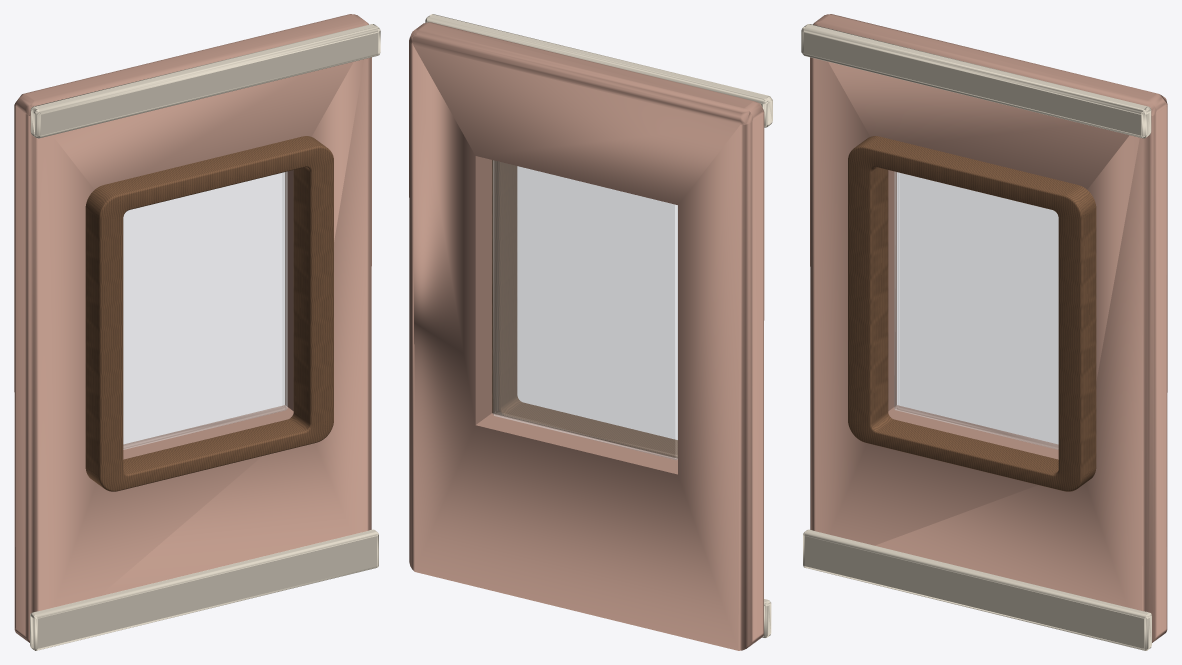
Rendered from Window.glb.
3 renders of one model, left to right at view 1: azimuth 30°, elevation 25°; view 2: azimuth 150°, elevation 25°; view 3: azimuth 330°, elevation 25°, orthographic.
Visible parts, largest first — view 1: PBK_substrate.001, PBK_glass.001, PBK_Continuous_Frame_Brick_Window.003, PBK_base_trim.001, PBK_floor_band.001; view 2: PBK_substrate.001, PBK_glass.001, PBK_Continuous_Frame_Brick_Window.003, PBK_floor_band.001; view 3: PBK_substrate.001, PBK_glass.001, PBK_Continuous_Frame_Brick_Window.003, PBK_base_trim.001, PBK_floor_band.001.
Boxes of the visible parts, <box> form: PBK_substrate.001: <box>14,14,371,642</box>; PBK_glass.001: <box>123,172,287,449</box>; PBK_Continuous_Frame_Brick_Window.003: <box>85,136,333,491</box>; PBK_base_trim.001: <box>30,529,378,650</box>; PBK_floor_band.001: <box>30,24,380,138</box>; PBK_substrate.001: <box>409,22,764,650</box>; PBK_glass.001: <box>493,160,677,459</box>; PBK_Continuous_Frame_Brick_Window.003: <box>492,160,677,458</box>; PBK_floor_band.001: <box>425,14,772,127</box>; PBK_substrate.001: <box>810,14,1167,642</box>; PBK_glass.001: <box>894,172,1058,449</box>; PBK_Continuous_Frame_Brick_Window.003: <box>848,136,1096,491</box>; PBK_base_trim.001: <box>803,529,1151,650</box>; PBK_floor_band.001: <box>801,24,1151,138</box>.
Size of the model in its own units: 2 by 3 by 0.345.
Materials: 4 (1 with a texture image).
